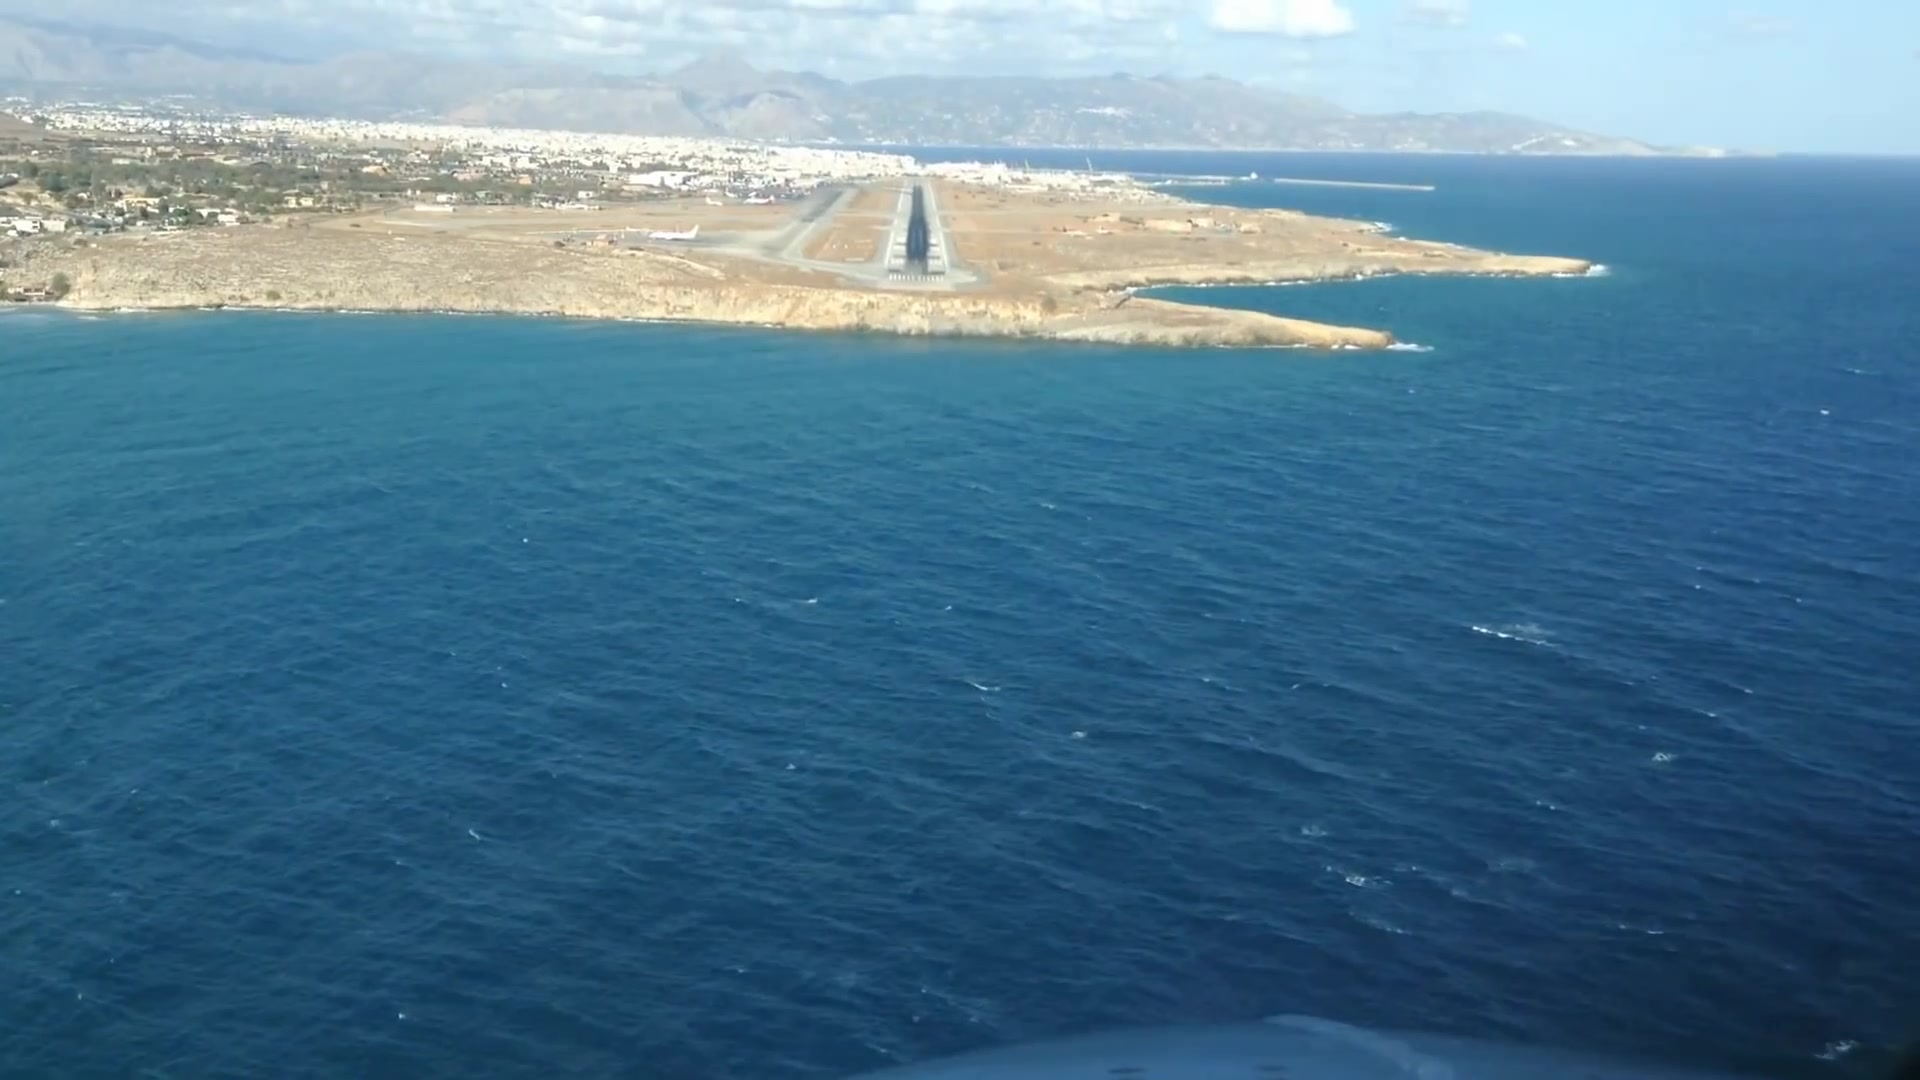entrance: (887, 272, 945, 281)
runway: (884, 177, 949, 284)
